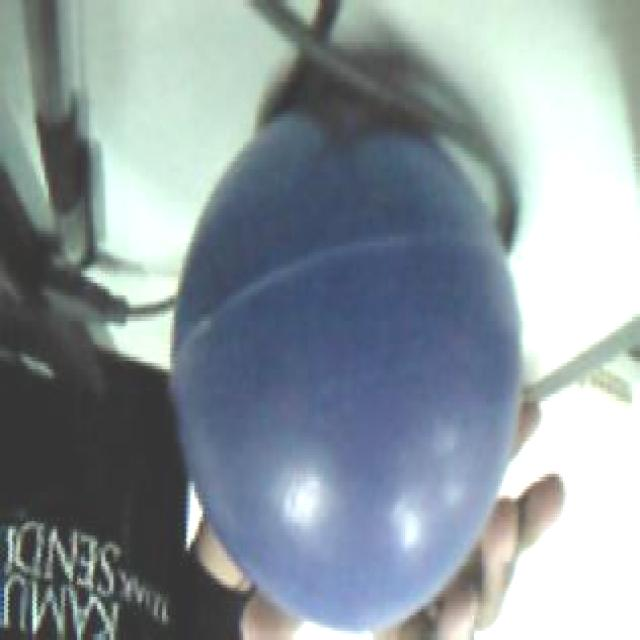BallPurple: (171, 106, 524, 626)
